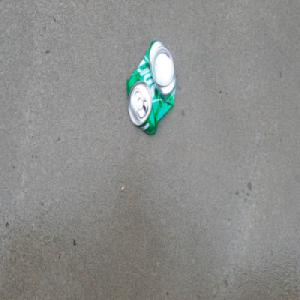SodaCan: (125, 37, 177, 136)
